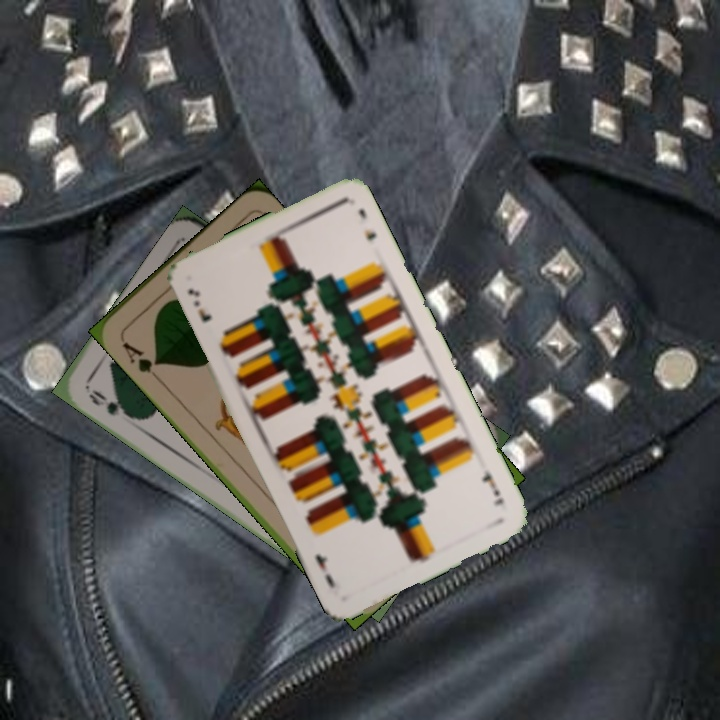E7: (477, 465, 507, 509), (183, 284, 215, 325)
GA: (118, 334, 163, 382)
GO: (84, 385, 136, 422)
